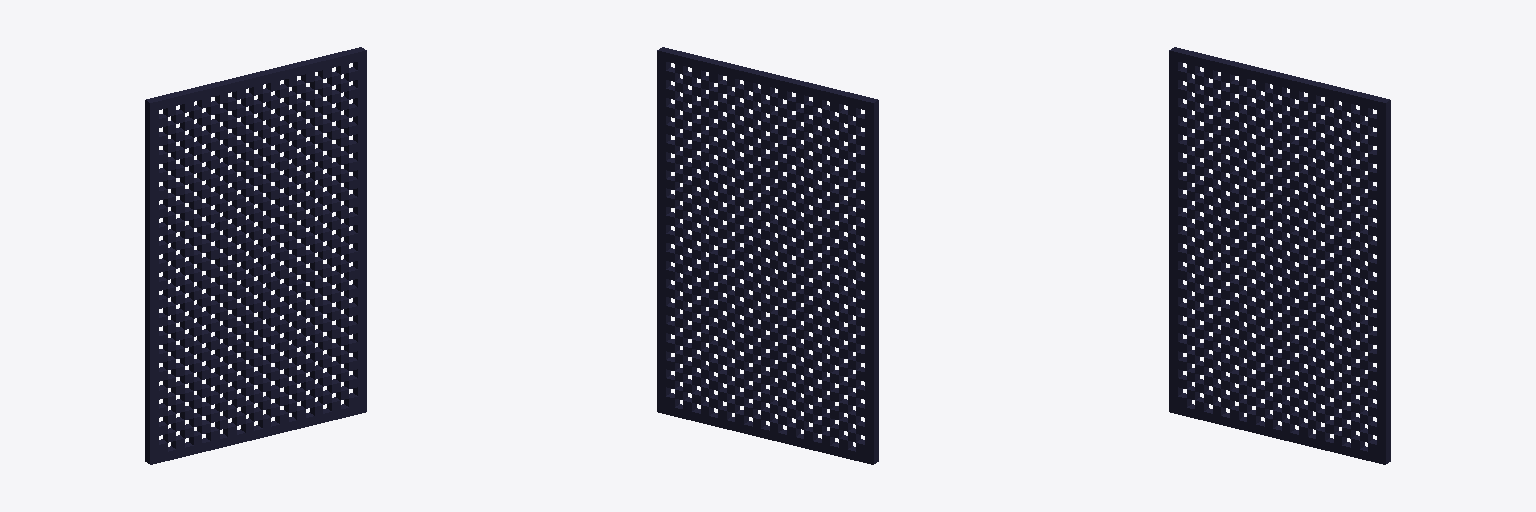
3 renders of one model, left to right at view 1: azimuth 30°, elevation 25°; view 2: azimuth 150°, elevation 25°; view 3: azimuth 330°, elevation 25°, orthographic.
Parts seen in each view (by area): view 1: object 1; view 2: object 1; view 3: object 1.
Boxes of the visible parts, x1=… form: object 1: x1=145, y1=47, x2=366, y2=464; object 1: x1=657, y1=47, x2=878, y2=464; object 1: x1=1169, y1=47, x2=1390, y2=464.
Bounding box in the file's own units: 2.5 × 4 × 0.1.
Materials: 1 (1 with a texture image).